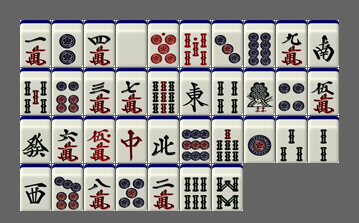0m: (84, 116, 115, 163)
0p: (148, 20, 179, 67)
0s: (180, 20, 211, 67)
1m: (20, 20, 51, 67)
1p: (244, 116, 275, 163)
1s: (244, 68, 275, 115)
1z: (180, 68, 211, 115)
2m: (148, 164, 179, 211)
2p: (52, 20, 83, 67)
2s: (308, 116, 339, 163)
2z: (308, 20, 339, 67)
3m: (84, 68, 115, 115)
3p: (212, 20, 243, 67)
3s: (276, 116, 307, 163)
3z: (20, 164, 51, 211)
4m: (84, 20, 115, 67)
4p: (276, 68, 307, 115)
4s: (212, 68, 243, 115)
4z: (148, 116, 179, 163)
5m: (308, 68, 339, 115)
5p: (116, 164, 147, 211)
5s: (20, 68, 51, 115)
5z: (116, 20, 147, 67)
6m: (52, 116, 83, 163)
6p: (52, 68, 83, 115)
6s: (180, 164, 211, 211)
6z: (20, 116, 51, 163)
7m: (116, 68, 147, 115)
7p: (52, 164, 83, 211)
7s: (212, 116, 243, 163)
7z: (116, 116, 147, 163)
8m: (84, 164, 115, 211)
8p: (244, 20, 275, 67)
8s: (212, 164, 243, 211)
9m: (276, 20, 307, 67)
9p: (180, 116, 211, 163)
9s: (148, 68, 179, 115)
